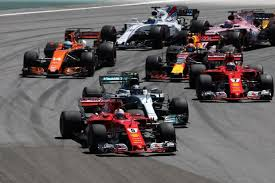FormulaOneCar: (57, 96, 180, 159), (81, 72, 193, 131), (101, 1, 211, 49), (20, 28, 119, 80), (186, 1, 275, 53), (191, 52, 275, 104), (143, 44, 216, 83)
